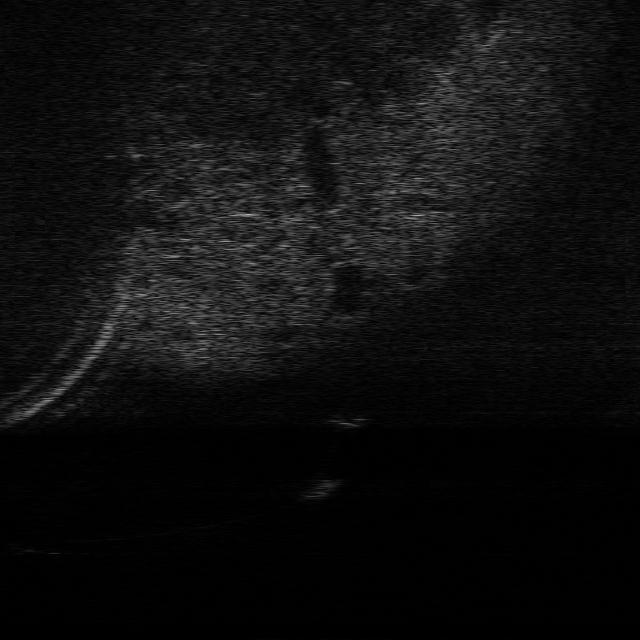cube: (326, 408, 369, 431)
cylinder: (302, 475, 336, 501)
